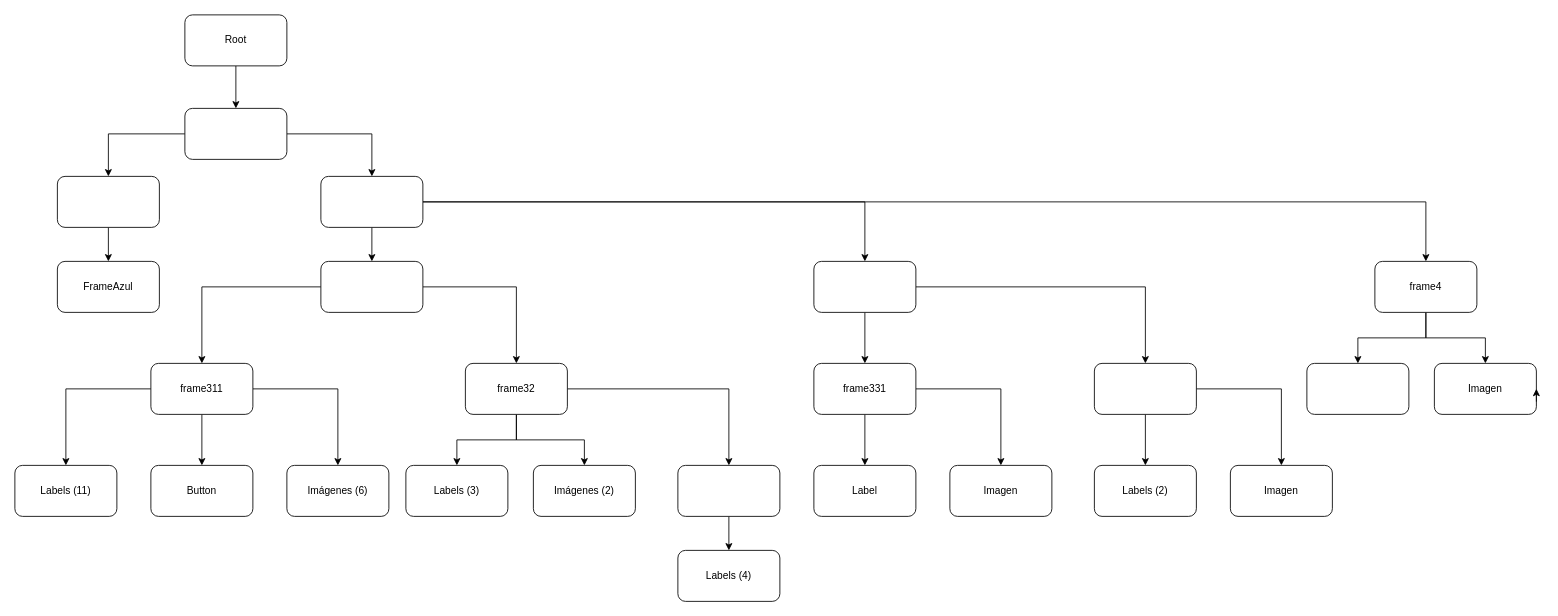
This 1558x616 diagram has some shape labels left out. The shapes that lost their labels are listed below. From the top down, each one's centre as x and y in pixels, then its label:
At (x=235, y=133): "main_frame".
At (x=108, y=201): "frame1".
At (x=371, y=201): "frame2".
At (x=371, y=286): "frame3".
At (x=864, y=286): "frame33".
At (x=1145, y=388): "frame332".
At (x=1357, y=388): "Labels (5)".
At (x=728, y=490): "Frame321".
